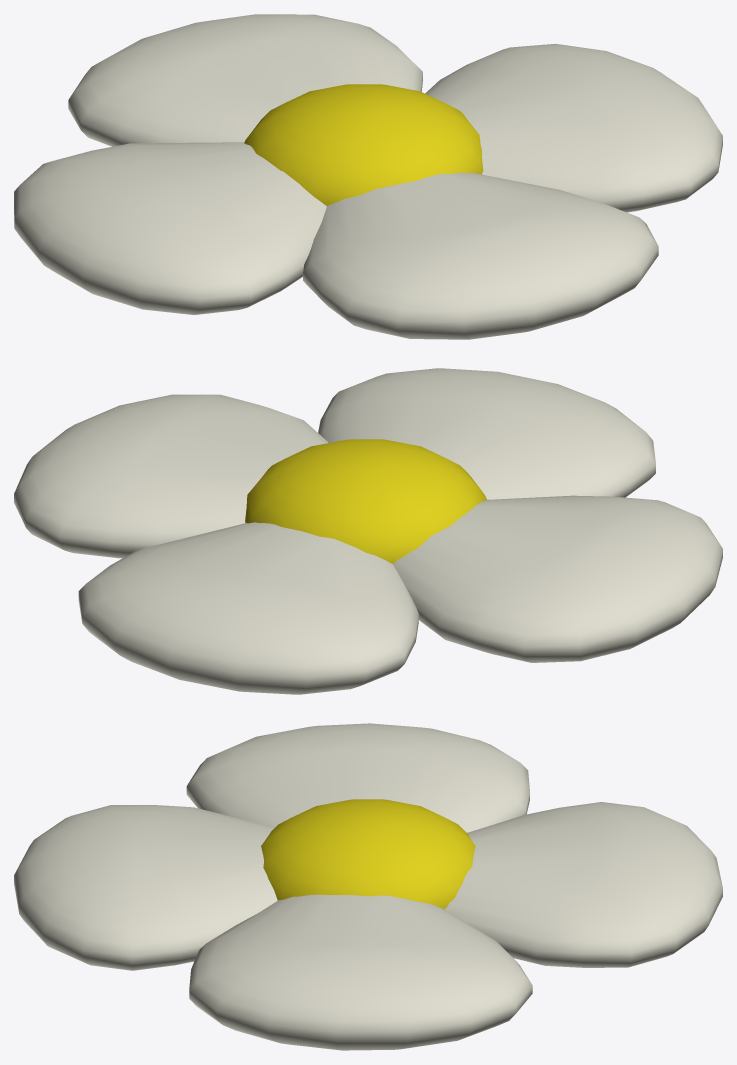
Rendered from flower White.fbx.
3 views of the same model, one above another, from view 1: azimuth 30°, elevation 25°; view 2: azimuth 150°, elevation 25°; view 3: azimuth 270°, elevation 25° (orthographic). The views are drawn at different scales.
Parts seen in each view (by area): view 1: pSphere18; view 2: pSphere18; view 3: pSphere18.
Part boxes in pixels (x1,y1,x2,y2): pSphere18: (14, 14, 722, 339); pSphere18: (14, 368, 722, 694); pSphere18: (14, 723, 722, 1050).
Size of the model in its own units: 3.35 by 0.5053 by 3.35.
